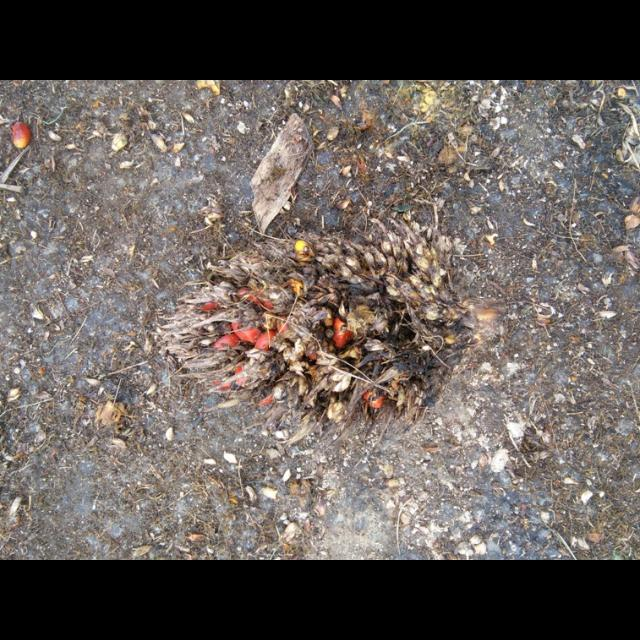Empty: (187, 234, 470, 423)
